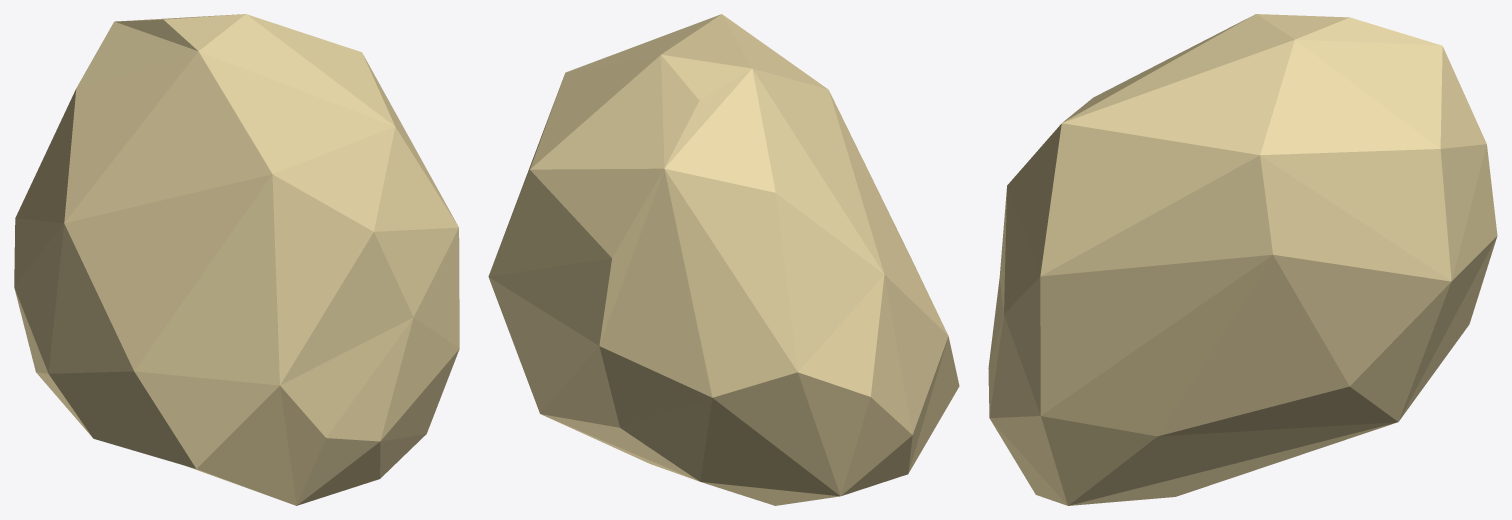
File: Rock (29).fbx
The picture shows the model from 3 angles, left to right: view 1: azimuth 30°, elevation 25°; view 2: azimuth 150°, elevation 25°; view 3: azimuth 270°, elevation 25°; orthographic projection. The views are drawn at different scales.
Parts seen in each view (by area): view 1: Asteroid28; view 2: Asteroid28; view 3: Asteroid28.
Boxes of the visible parts, left/top/right/bottom form: Asteroid28: left=14, top=14, right=459, bottom=505; Asteroid28: left=488, top=14, right=959, bottom=505; Asteroid28: left=988, top=14, right=1497, bottom=505.
Bounding box in the file's own units: 187 × 211 × 217.
